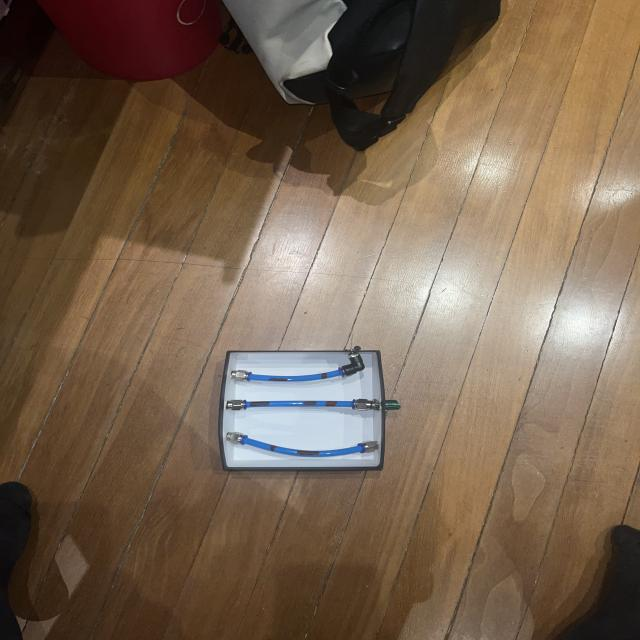hose_damage: (296, 450, 320, 456), (249, 401, 271, 407), (325, 400, 338, 408), (302, 400, 319, 406), (267, 378, 288, 382), (270, 444, 277, 452), (321, 373, 328, 379)
